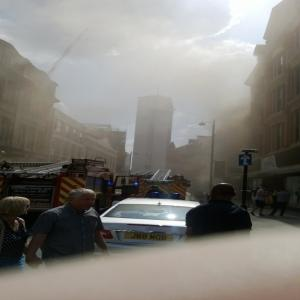Vehicle-registration-plate: (124, 235, 176, 242)
